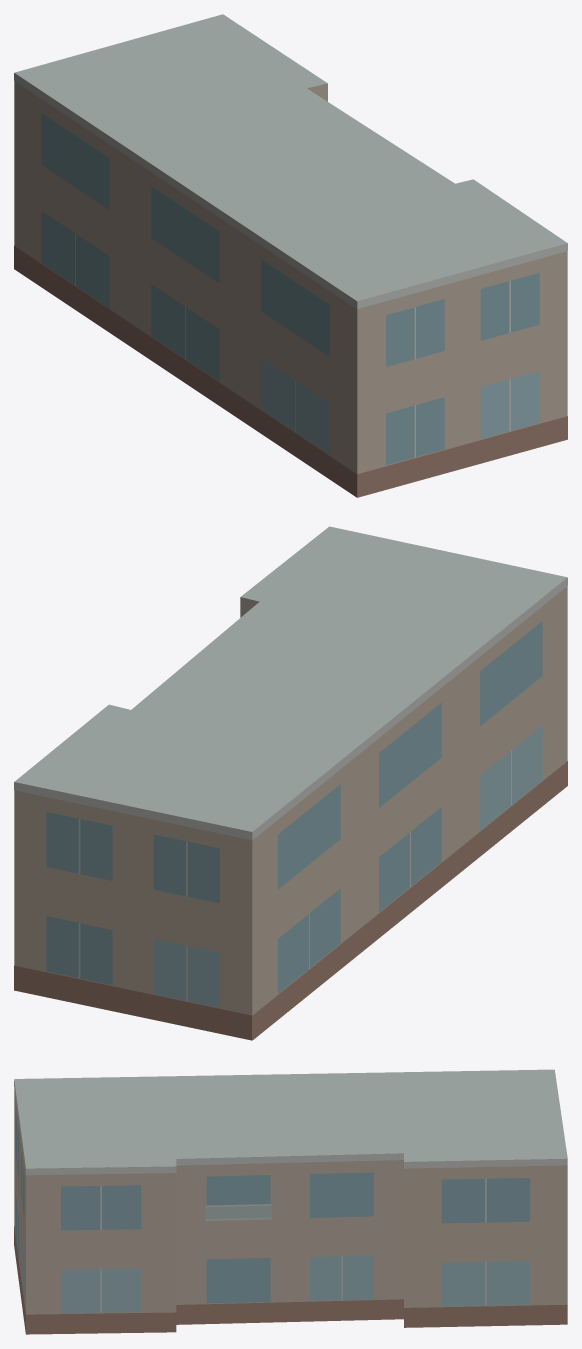
The model's file is survey-upis-32819571.glb.
3 views of the same model, one above another, from view 1: azimuth 30°, elevation 25°; view 2: azimuth 150°, elevation 25°; view 3: azimuth 270°, elevation 25° (orthographic). The views are drawn at different scales.
Visible parts, largest first — view 1: survey-upis-32819571.tmp; view 2: survey-upis-32819571.tmp; view 3: survey-upis-32819571.tmp.
Part boxes in pixels (left/top/right/bottom): survey-upis-32819571.tmp: left=14, top=14, right=567, bottom=497; survey-upis-32819571.tmp: left=14, top=526, right=567, bottom=1040; survey-upis-32819571.tmp: left=14, top=1069, right=567, bottom=1334.
Size of the model in its own units: 7.83 by 6.1 by 18.47.
